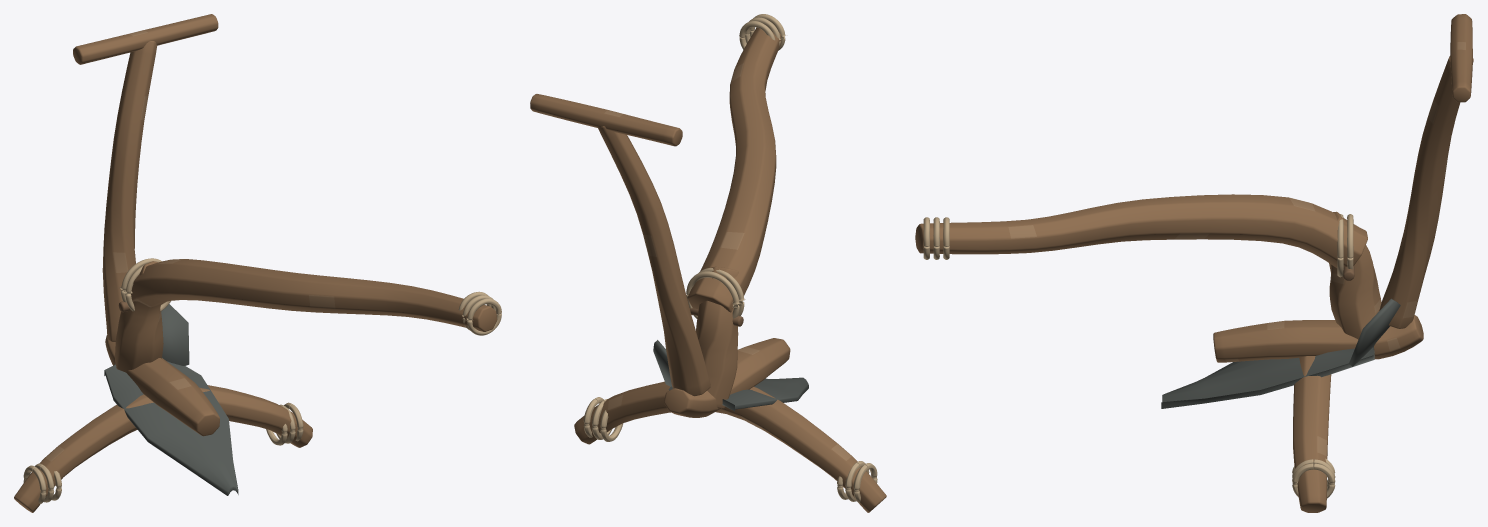
The model's file is paddy-plough.glb.
The picture shows the model from 3 angles, left to right: view 1: azimuth 30°, elevation 25°; view 2: azimuth 150°, elevation 25°; view 3: azimuth 270°, elevation 25°; orthographic projection. The views are drawn at different scales.
Visible parts, largest first — view 1: one_curved_draft_beam, curved_control_handle, forged_iron_share, curved_shoulder_timber, plough_sole, curved_plough_post, hand_grip, small_turning_cheek; view 2: one_curved_draft_beam, curved_control_handle, curved_shoulder_timber, curved_plough_post, plough_sole, hand_grip, forged_iron_share, post_join_binding_0, small_turning_cheek; view 3: one_curved_draft_beam, curved_control_handle, plough_sole, forged_iron_share, curved_shoulder_timber, curved_plough_post, hand_grip, small_turning_cheek.
Part boxes in pixels (bbox=[...]): one_curved_draft_beam: bbox=[131, 259, 497, 331]; curved_control_handle: bbox=[102, 41, 157, 341]; forged_iron_share: bbox=[104, 361, 238, 495]; curved_shoulder_timber: bbox=[14, 385, 312, 512]; plough_sole: bbox=[105, 335, 219, 436]; curved_plough_post: bbox=[115, 261, 163, 372]; hand_grip: bbox=[73, 14, 218, 64]; small_turning_cheek: bbox=[161, 304, 189, 365]; one_curved_draft_beam: bbox=[687, 27, 781, 312]; curved_control_handle: bbox=[597, 126, 710, 396]; curved_shoulder_timber: bbox=[574, 381, 886, 512]; curved_plough_post: bbox=[696, 266, 738, 408]; plough_sole: bbox=[664, 338, 790, 417]; hand_grip: bbox=[530, 94, 682, 146]; forged_iron_share: bbox=[668, 377, 808, 411]; post_join_binding_0: bbox=[686, 271, 740, 318]; small_turning_cheek: bbox=[653, 340, 672, 386]; one_curved_draft_beam: bbox=[915, 194, 1367, 267]; curved_control_handle: bbox=[1379, 56, 1473, 328]; plough_sole: bbox=[1213, 315, 1423, 362]; forged_iron_share: bbox=[1161, 346, 1374, 408]; curved_shoulder_timber: bbox=[1293, 356, 1331, 512]; curved_plough_post: bbox=[1329, 211, 1381, 339]; hand_grip: bbox=[1450, 14, 1472, 102]; small_turning_cheek: bbox=[1349, 298, 1400, 366].
Size of the model in its own units: 1.1 by 1.31 by 1.59.
